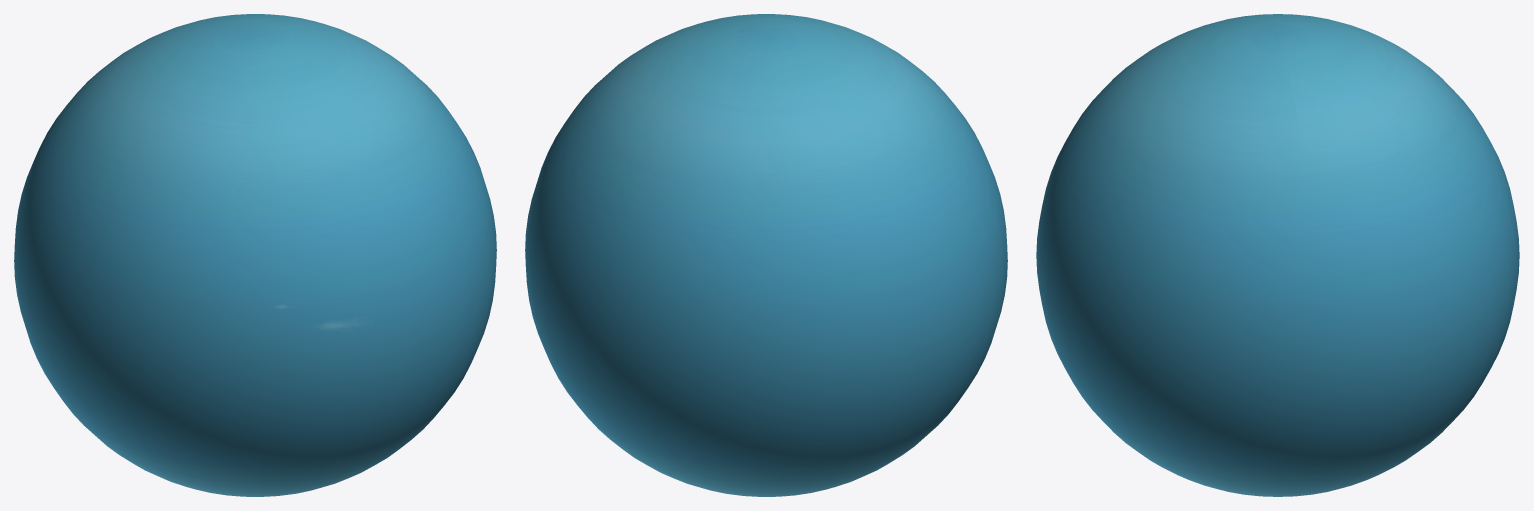
The picture shows the model from 3 angles, left to right: view 1: azimuth 30°, elevation 25°; view 2: azimuth 150°, elevation 25°; view 3: azimuth 270°, elevation 25°; orthographic projection.
Parts seen in each view (by area): view 1: uranus_GEO_n3d; view 2: uranus_GEO_n3d; view 3: uranus_GEO_n3d.
Part boxes in pixels (bbox=[...]): uranus_GEO_n3d: bbox=[14, 14, 496, 496]; uranus_GEO_n3d: bbox=[525, 14, 1007, 496]; uranus_GEO_n3d: bbox=[1036, 14, 1519, 496].
Size of the model in its own units: 0.1173 by 0.1173 by 0.1173.
Materials: 1 (1 with a texture image).
